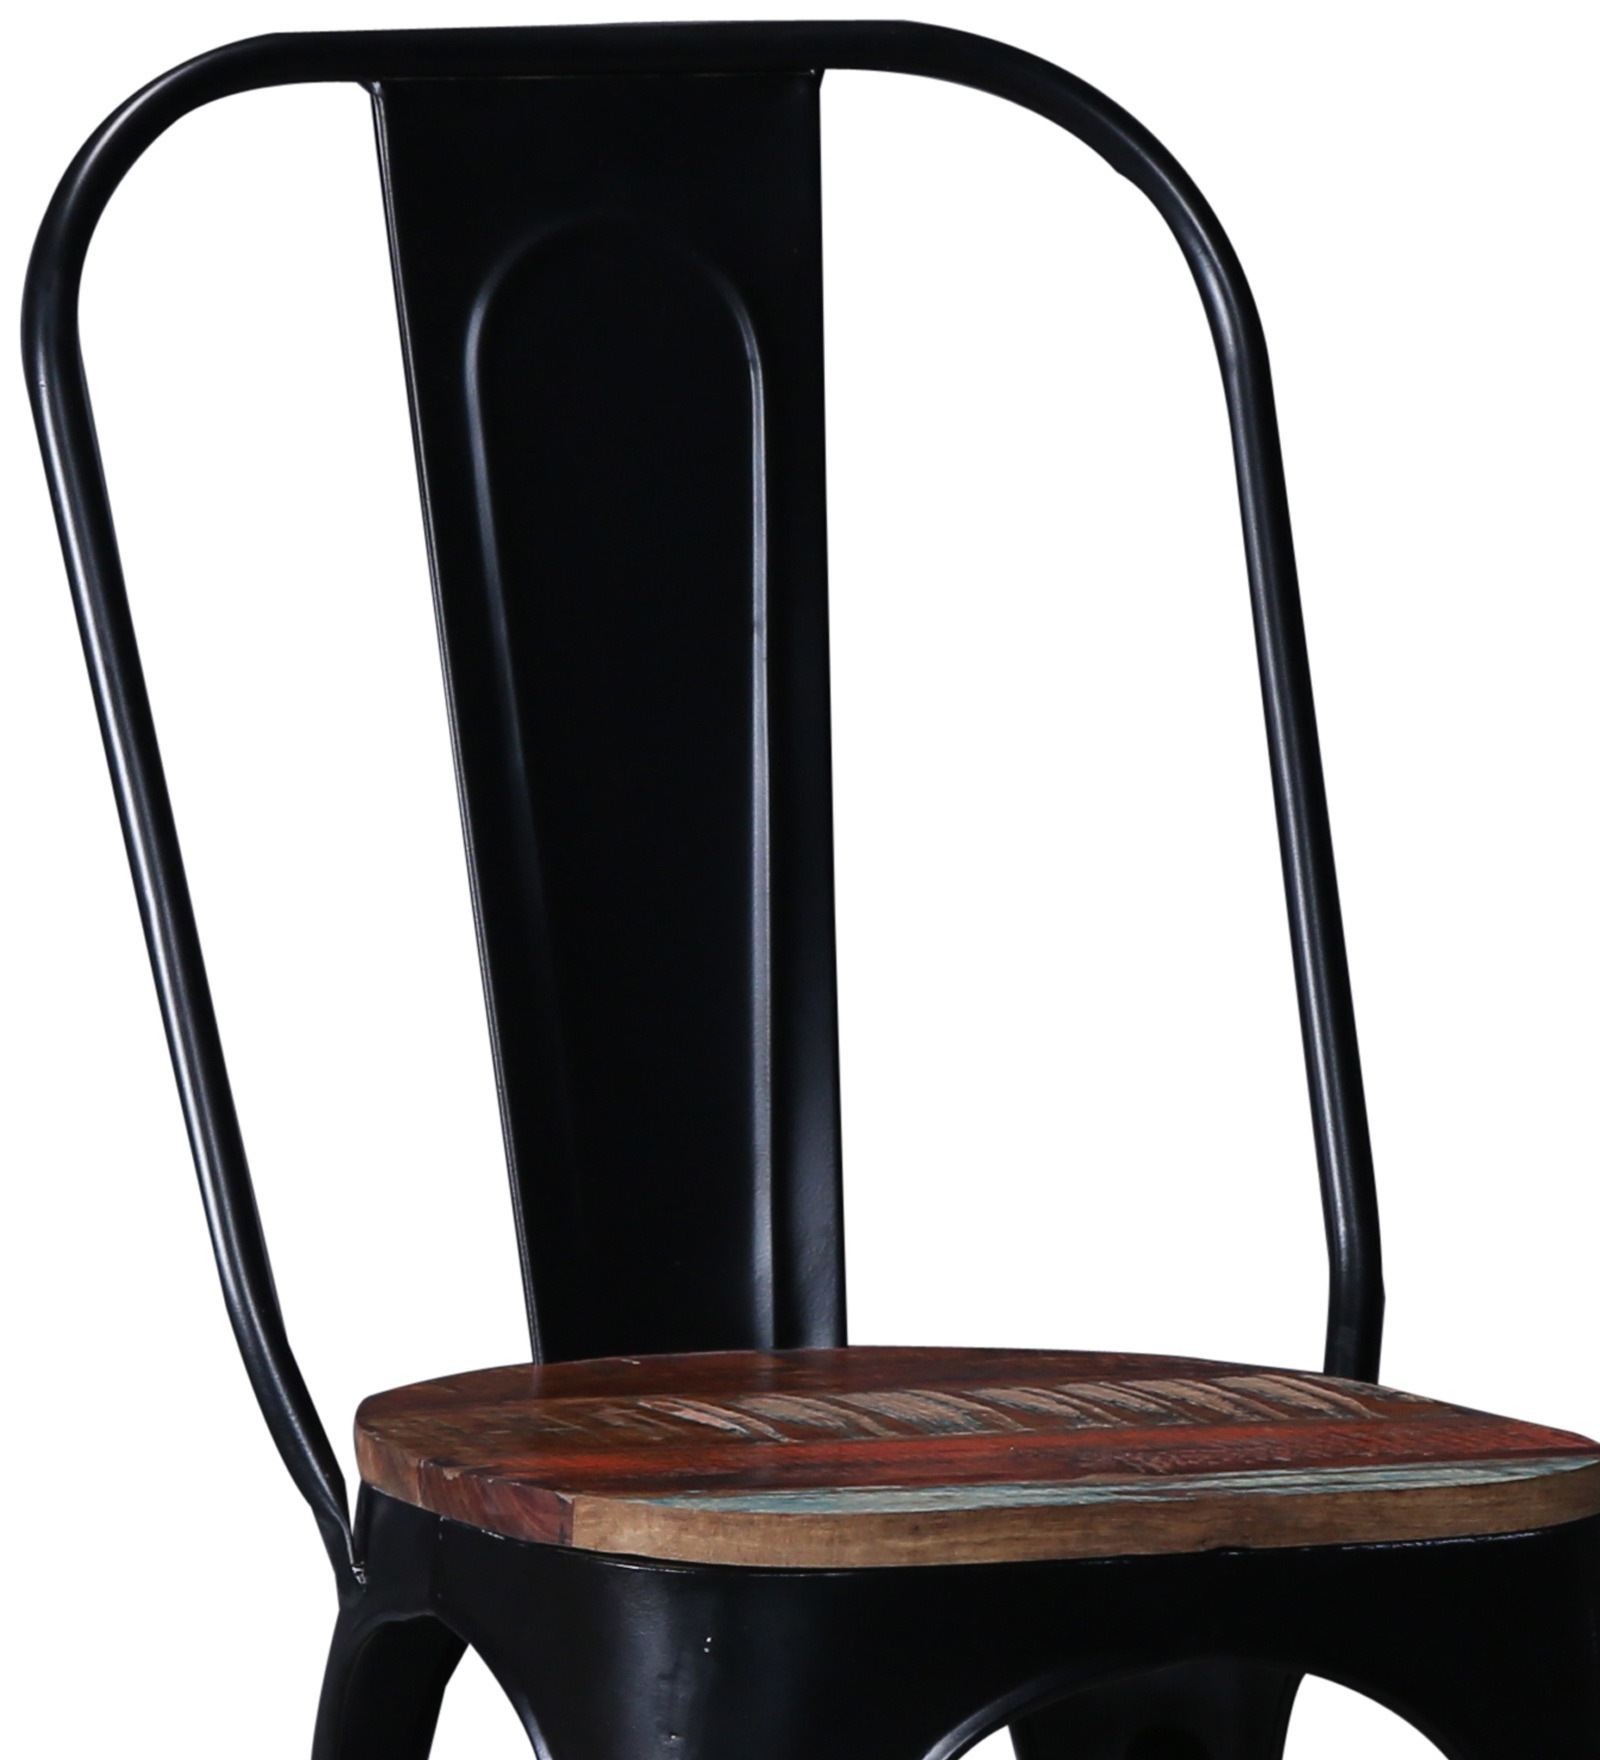Kumtor Metal Chair in Distress Black Color with Wooden Seat by Bohemiana: (9, 15, 1595, 1760)
